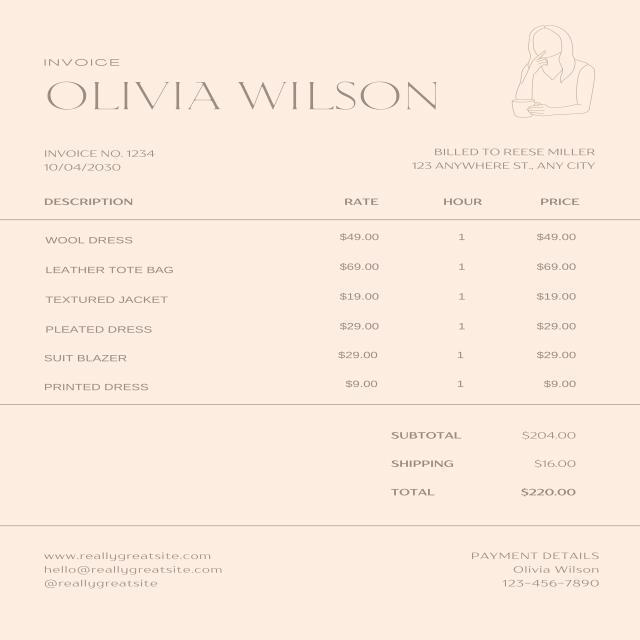paragraph: (36, 53, 444, 117), (383, 421, 584, 507), (40, 548, 227, 594), (467, 545, 610, 593), (408, 141, 602, 174), (40, 140, 160, 179)
table: (32, 188, 595, 401)
